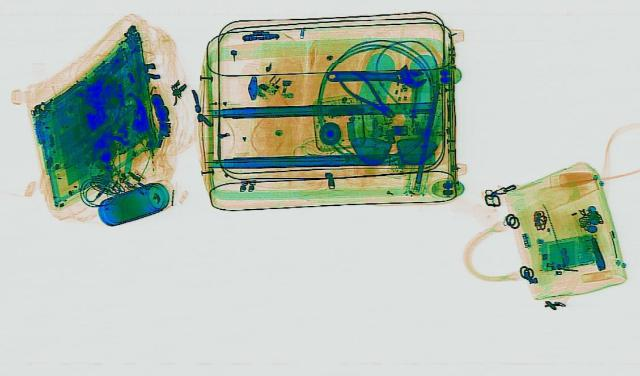Pliers: (330, 69, 408, 120)
Wrench: (323, 67, 427, 87)
